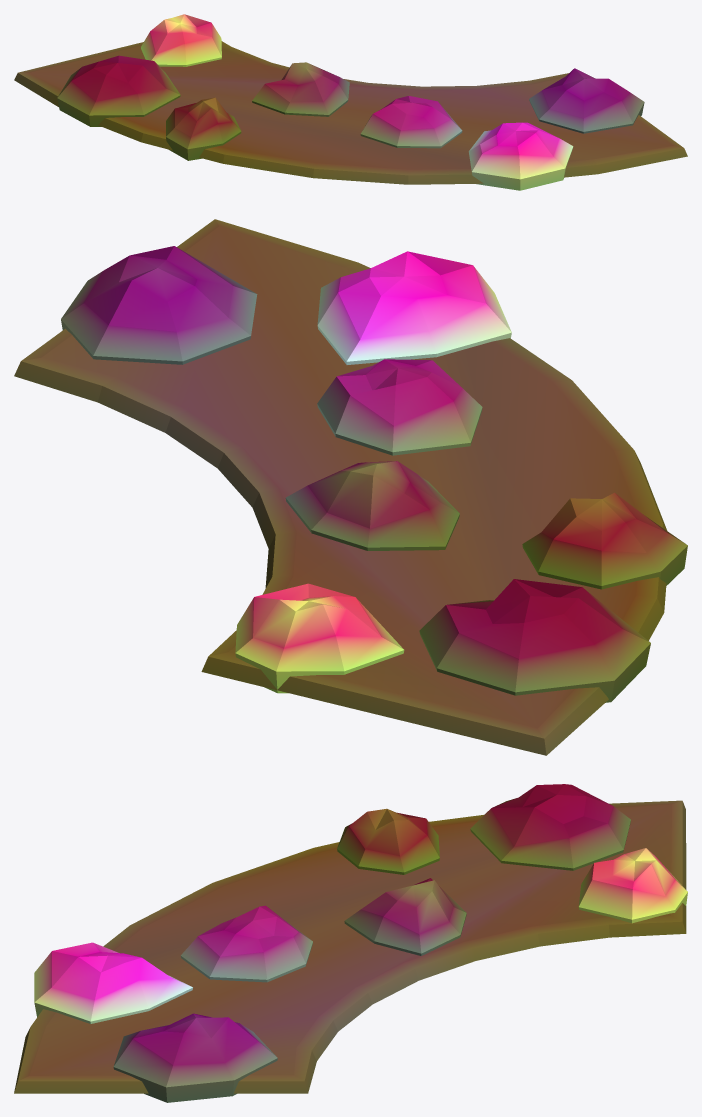
Rendered from Path_Stones_Curve.fbx.
The picture shows the model from 3 angles, top to bottom: view 1: azimuth 30°, elevation 25°; view 2: azimuth 150°, elevation 25°; view 3: azimuth 270°, elevation 25°; orthographic projection. The views are drawn at different scales.
Parts seen in each view (by area): view 1: Path_Stones_Curve; view 2: Path_Stones_Curve; view 3: Path_Stones_Curve.
Part boxes in pixels (box(x1,y1,x2,y2)): Path_Stones_Curve: box(14, 14, 687, 190); Path_Stones_Curve: box(14, 219, 687, 755); Path_Stones_Curve: box(14, 784, 687, 1102).
Size of the model in its own units: 2.65 by 0.2376 by 2.59.
